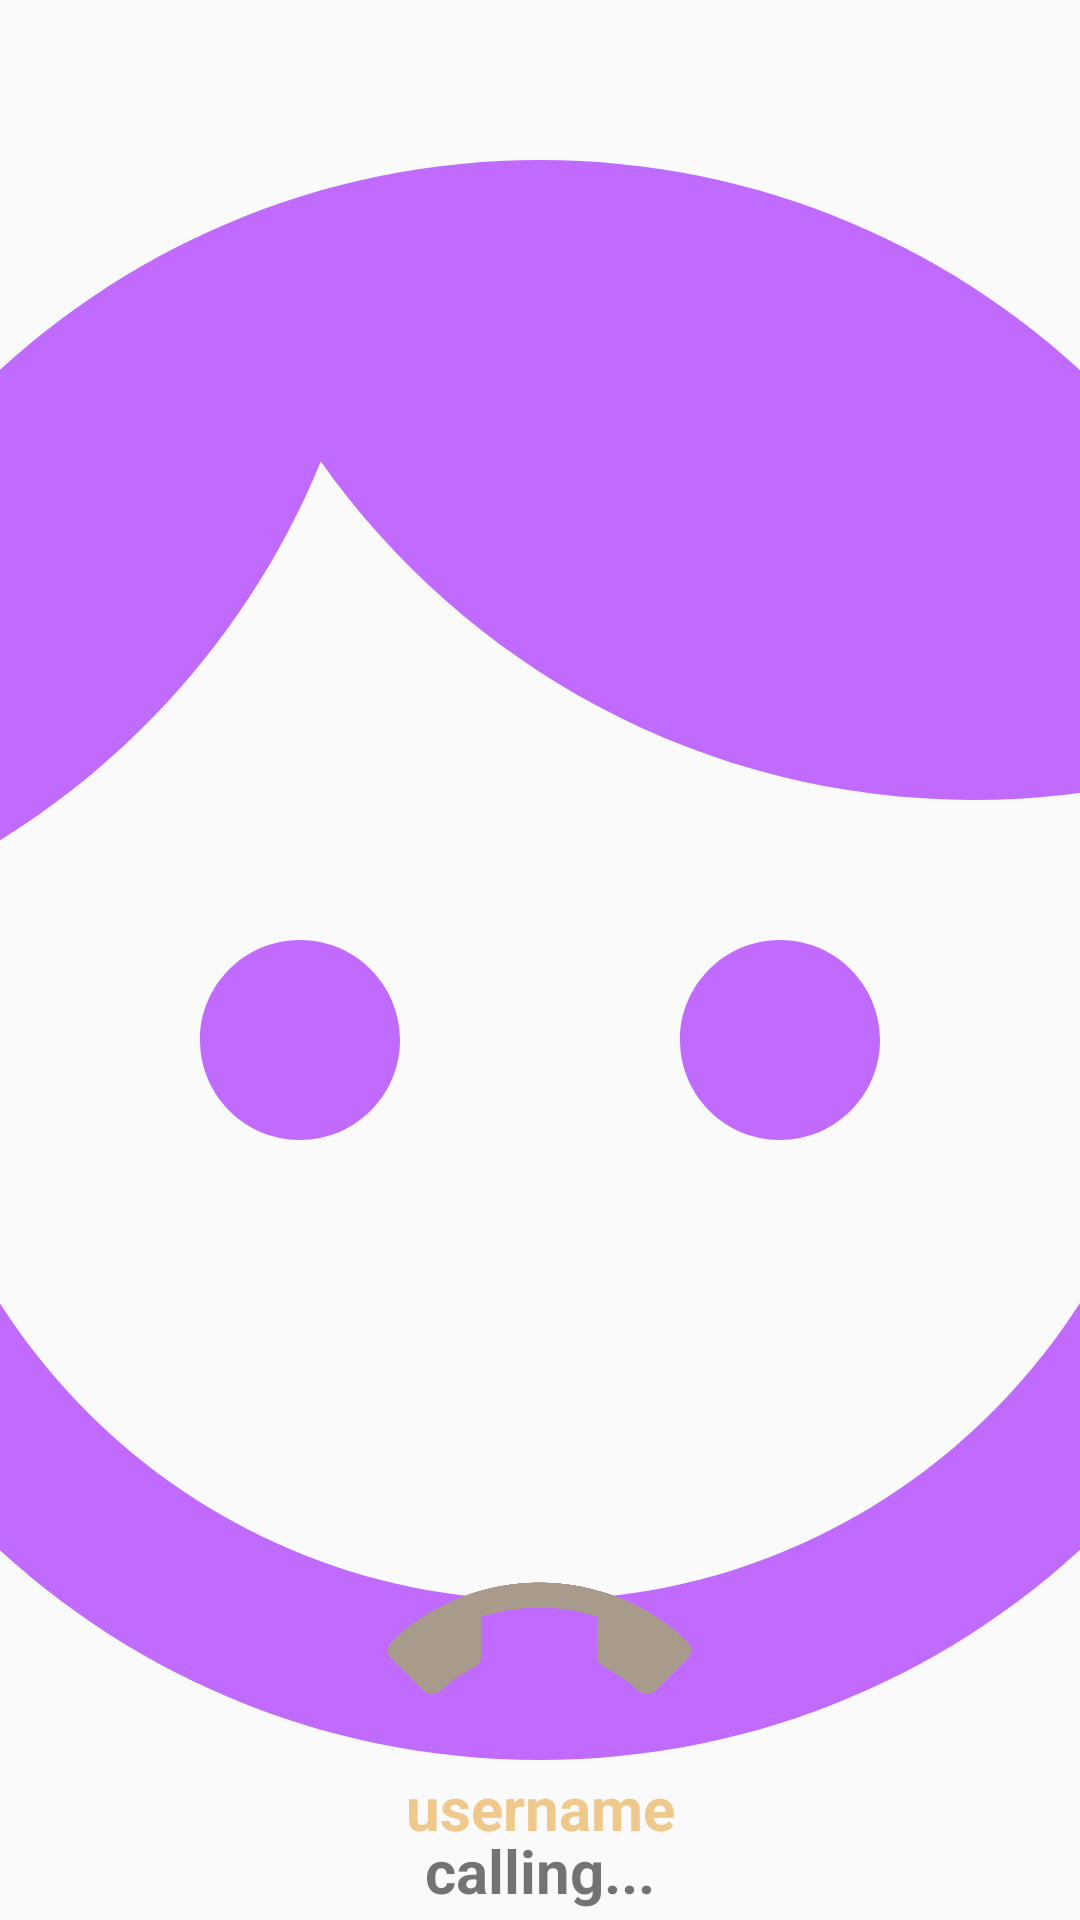

Icons on this 1080*1920 Android screen, each with its box as [x1, y1, x2, y2]:
call end: [361, 1574, 718, 1760]
